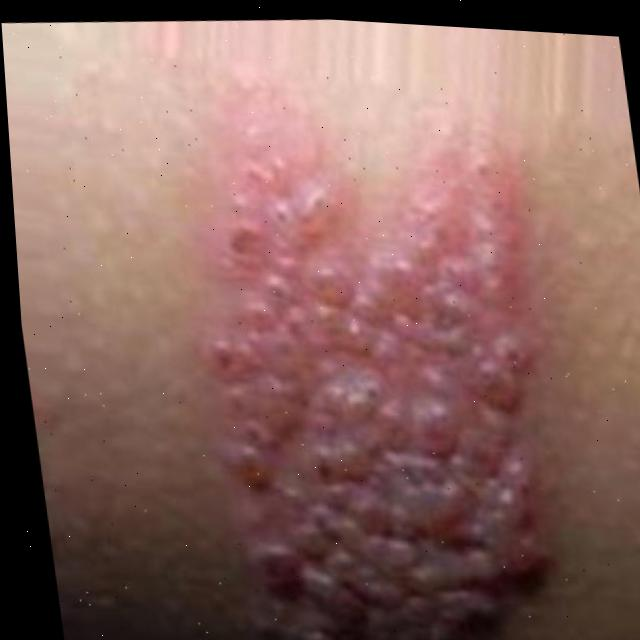Shingles: (165, 84, 591, 640)
